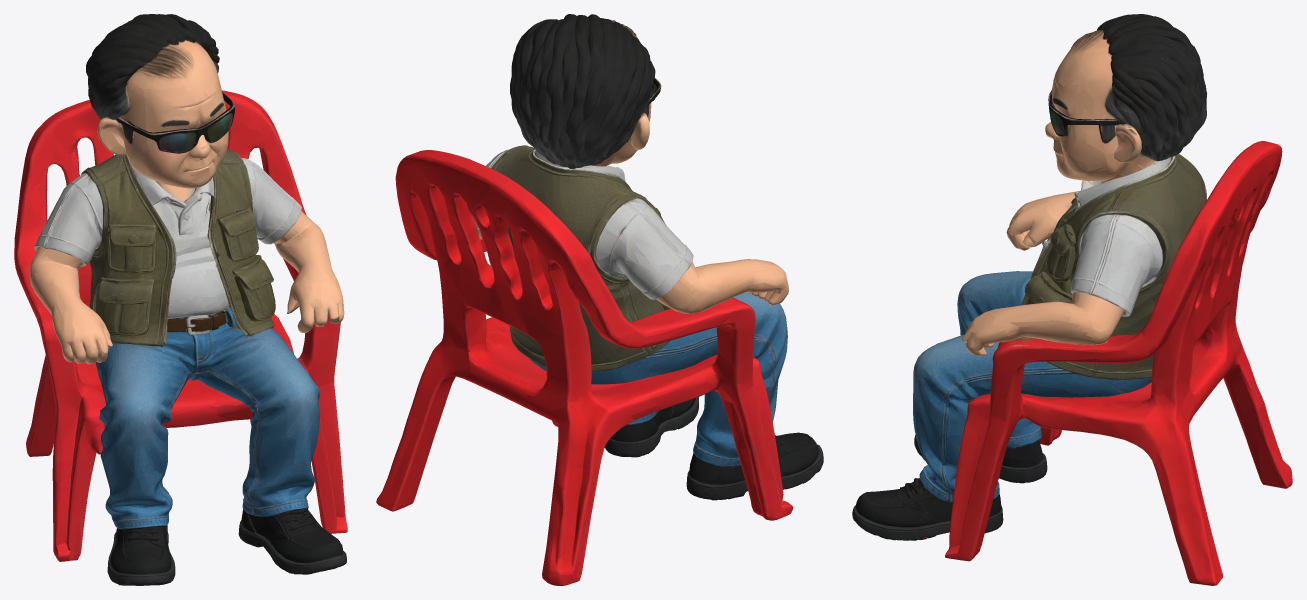
The model's file is merchant.glb.
3 renders of one model, left to right at view 1: azimuth 30°, elevation 25°; view 2: azimuth 150°, elevation 25°; view 3: azimuth 270°, elevation 25°, orthographic. The views are drawn at different scales.
Bounding box in the file's own units: 1.3 × 1.9 × 1.56.
1 material, 1 textured.
